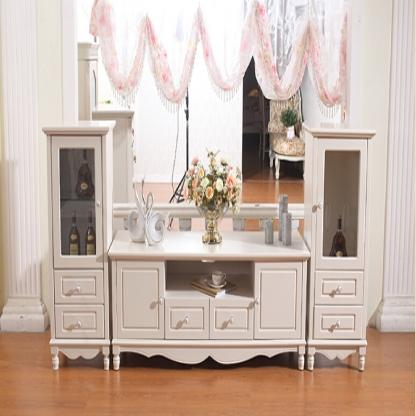TV stand: (43, 120, 376, 372)
